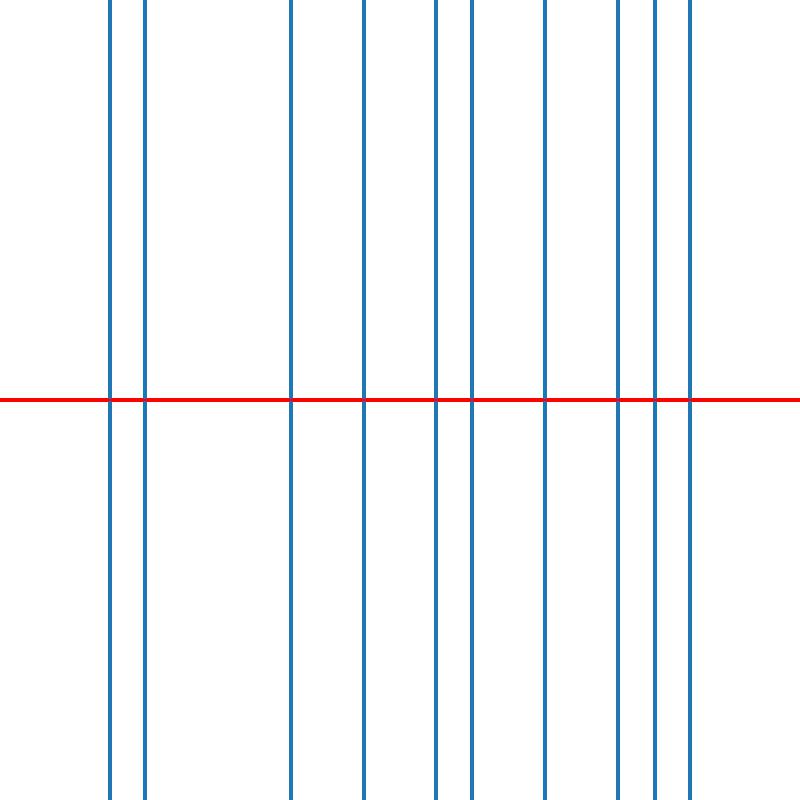root: (432, 396, 440, 404), (541, 396, 549, 404), (141, 396, 149, 404), (650, 396, 658, 404), (287, 396, 294, 404), (469, 396, 476, 404), (687, 396, 694, 404), (105, 396, 112, 404), (360, 396, 367, 404), (614, 396, 621, 404)
